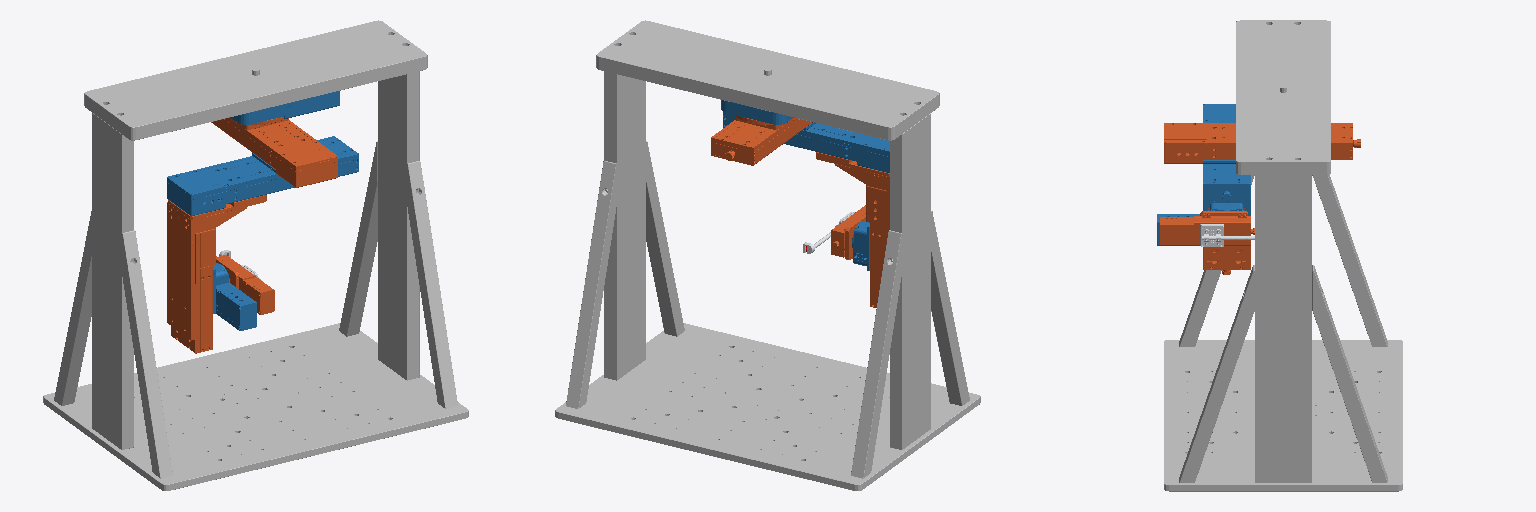
robot.urdf — SAMCS:
<?xml version="1.0" encoding="utf-8"?>
<robot name="SAMCS">

  <!-- 基座框架：保持原始灰色 -->
  <link name="baselink_framework">
    <visual>
      <origin xyz="0 0 0" rpy="0 0 0" />
      <geometry>
        <mesh filename="meshes/baselink_framework.STL" />
      </geometry>
      <material name="6061">
        <color rgba="0.8 0.8 0.8 1" />
      </material>
    </visual>
  </link>

  <!-- R轴电机：钢蓝 -->
  <link name="link1_motor1_R">
    <visual>
      <origin xyz="0 0 0" rpy="0 0 0" />
      <geometry>
        <mesh filename="meshes/link1_motor1_R.STL" />
      </geometry>
      <material name="6061">
        <color rgba="0.224 0.522 0.749 1" />
      </material>
    </visual>
  </link>

  <!-- 第一个关节：固定关节 -->
  <joint name="joint1" type="fixed">
    <origin xyz="0 0 -0.0337" rpy="0 0 0" />
    <parent link="baselink_framework" />
    <child link="link1_motor1_R" />
    <axis xyz="0 0 0" />
  </joint>

  <!-- Y轴滑块：哑光橙 -->
  <link name="link2_motor2_Y">
    <visual>
      <origin xyz="0 0 0" rpy="0 0 0" />
      <geometry>
        <mesh filename="meshes/link2_motor2_Y.STL" />
      </geometry>
      <material name="6061">
        <color rgba="0.878 0.424 0.224 1" />
      </material>
    </visual>
  </link>

  <!-- 第二个关节：连续旋转关节 (R轴：绕Z轴) -->
  <joint name="joint2" type="continuous">
    <origin xyz="0 0 -0.03955" rpy="0 0 0" />
    <parent link="link1_motor1_R" />
    <child link="link2_motor2_Y" />
    <axis xyz="0 0 1" />
  </joint>

  <!-- X轴横梁：钢蓝 -->
  <link name="link3_motor3_X">
    <visual>
      <origin xyz="0 0 0" rpy="0 0 0" />
      <geometry>
        <mesh filename="meshes/link3_motor3_X.STL" />
      </geometry>
      <material name="6061">
        <color rgba="0.224 0.522 0.749 1" />
      </material>
    </visual>
  </link>

  <!-- 第三个关节：移动关节 -->
  <joint name="joint3" type="prismatic">
    <origin xyz="0 -0.119 -0.06425" rpy="1.5708 0 -3.1416" />
    <parent link="link2_motor2_Y" />
    <child link="link3_motor3_X" />
    <axis xyz="0 0 1" />
    <limit lower="0" upper="0.2" effort="0" velocity="0" />
  </joint>

  <!-- Z轴立柱：哑光橙 -->
  <link name="link4_motor4_Z">
    <visual>
      <origin xyz="0 0 0" rpy="0 0 0" />
      <geometry>
        <mesh filename="meshes/link4_motor4_Z.STL" />
      </geometry>
      <material name="6061">
        <color rgba="0.878 0.424 0.224 1" />
      </material>
    </visual>
  </link>

  <!-- 第四个关节：移动关节 -->
  <joint name="joint4" type="prismatic">
    <origin xyz="0.11019 -0.049 0" rpy="1.5708 0 -1.5708" />
    <parent link="link3_motor3_X" />
    <child link="link4_motor4_Z" />
    <axis xyz="0 0 1" />
    <limit lower="0" upper="0.2" effort="0" velocity="0" />
  </joint>

  <!-- P轴俯仰：钢蓝 -->
  <link name="link5_motor5_P">
    <visual>
      <origin xyz="0 0 0" rpy="0 0 0" />
      <geometry>
        <mesh filename="meshes/link5_motor5_P.STL" />
      </geometry>
      <material name="6061">
        <color rgba="0.224 0.522 0.749 1" />
      </material>
    </visual>
  </link>

  <!-- 第五个关节：移动关节 -->
  <joint name="joint5" type="prismatic">
    <origin xyz="0.189 0 -0.087813" rpy="1.5708 0 1.5708" />
    <parent link="link4_motor4_Z" />
    <child link="link5_motor5_P" />
    <axis xyz="0 0 1" />
    <limit lower="0" upper="0.075" effort="0" velocity="0" />
  </joint>

  <!-- I轴植入：哑光橙 -->
  <link name="link6_motor6_I">
    <visual>
      <origin xyz="0 0 0" rpy="0 0 0" />
      <geometry>
        <mesh filename="meshes/link6_motor6_I.STL" />
      </geometry>
      <material name="6061">
        <color rgba="0.878 0.424 0.224 1" />
      </material>
    </visual>
  </link>

  <!-- 第六个关节：旋转关节 -->
  <joint name="joint6" type="revolute">
    <origin xyz="0 0.04705 0.005" rpy="1.5708 0 -3.1416" />
    <parent link="link5_motor5_P" />
    <child link="link6_motor6_I" />
    <axis xyz="0 0 -1" />
    <limit lower="0" upper="1.5708" effort="0" velocity="0" />
  </joint>

  <!-- 夹具：钛白 -->
  <link name="link7_clamp">
    <visual>
      <origin xyz="0 0 0" rpy="0 0 0" />
      <geometry>
        <mesh filename="meshes/link7_clamp.STL" />
      </geometry>
      <material name="6061">
        <color rgba="0.878 0.894 0.91 1" />
      </material>
    </visual>
  </link>

  <!-- 第七个关节：移动关节 -->
  <joint name="joint7" type="prismatic">
    <origin xyz="0.0546 0 0.04586" rpy="1.5708 0 -1.5708" />
    <parent link="link6_motor6_I" />
    <child link="link7_clamp" />
    <axis xyz="0 0 1" />
    <limit lower="0" upper="0.05" effort="0" velocity="0" />
  </joint>

  <!-- 探针：金 -->
  <link name="Probe">
    <visual>
      <origin xyz="0 0 0" rpy="0 0 0" />
      <geometry>
        <mesh filename="meshes/Probe.STL" />
      </geometry>
      <material name="6061">
        <color rgba="1.0 0.0 0.0 1" />
      </material>
    </visual>
  </link>

  <!-- 第八个关节：固定关节 -->
  <joint name="joint8" type="fixed">
    <origin xyz="0 0.02364 0.1697" rpy="0 0 0" />
    <parent link="link7_clamp" />
    <child link="Probe" />
    <axis xyz="0 0 0" />
  </joint>

</robot>

--- What the picture shows (computed from the rendered views, not written in the file) ---
The picture shows the robot from 3 angles, left to right: view 1: azimuth 30°, elevation 25°; view 2: azimuth 150°, elevation 25°; view 3: azimuth 270°, elevation 25°; orthographic projection.
Model SAMCS with 9 links and 8 joints (1 revolute, 1 continuous, 4 prismatic, 2 fixed), rooted at baselink_framework, posed all joints at 0.
Links seen in each view (by area): view 1: baselink_framework, link4_motor4_Z, link3_motor3_X, link2_motor2_Y, link5_motor5_P, link1_motor1_R, link6_motor6_I; view 2: baselink_framework, link4_motor4_Z, link2_motor2_Y, link3_motor3_X, link6_motor6_I, link1_motor1_R, link5_motor5_P; view 3: baselink_framework, link2_motor2_Y, link3_motor3_X, link6_motor6_I, link4_motor4_Z, link5_motor5_P, link7_clamp.
Boxes of the visible links, left/top/right/bottom form: baselink_framework: left=43, top=20, right=468, bottom=490; link4_motor4_Z: left=167, top=195, right=266, bottom=353; link3_motor3_X: left=167, top=136, right=358, bottom=215; link2_motor2_Y: left=211, top=117, right=337, bottom=187; link5_motor5_P: left=213, top=263, right=256, bottom=330; link1_motor1_R: left=230, top=91, right=339, bottom=124; link6_motor6_I: left=216, top=255, right=274, bottom=314; baselink_framework: left=555, top=20, right=980, bottom=490; link4_motor4_Z: left=816, top=152, right=889, bottom=307; link2_motor2_Y: left=711, top=115, right=812, bottom=165; link3_motor3_X: left=723, top=112, right=889, bottom=172; link6_motor6_I: left=831, top=205, right=865, bottom=259; link1_motor1_R: left=721, top=100, right=793, bottom=124; link5_motor5_P: left=852, top=220, right=869, bottom=270; baselink_framework: left=1164, top=20, right=1402, bottom=491; link2_motor2_Y: left=1164, top=123, right=1360, bottom=163; link3_motor3_X: left=1203, top=104, right=1250, bottom=201; link6_motor6_I: left=1160, top=211, right=1254, bottom=245; link4_motor4_Z: left=1203, top=208, right=1250, bottom=274; link5_motor5_P: left=1157, top=201, right=1250, bottom=245; link7_clamp: left=1200, top=224, right=1254, bottom=246.
Bounding box of the posed robot: 0.72 × 0.515 × 0.765 m (x, y, z).
9 mesh visuals loaded from 9 distinct referenced files (9 binary STL).
